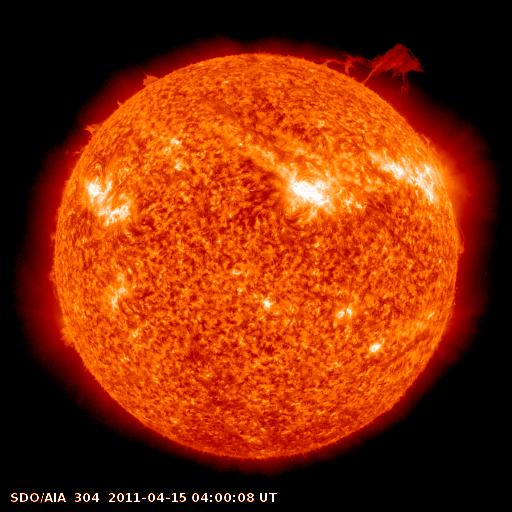prominence: (312, 33, 422, 109), (38, 253, 83, 360), (411, 125, 456, 173), (132, 60, 171, 97), (77, 112, 117, 147), (447, 212, 472, 263)
